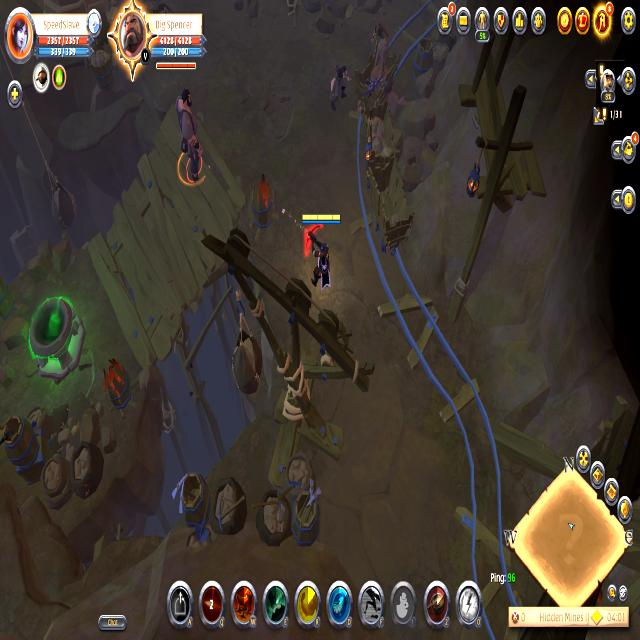ore: (154, 60, 215, 190), (327, 58, 354, 111), (370, 16, 389, 48)
red: (299, 208, 342, 302)
